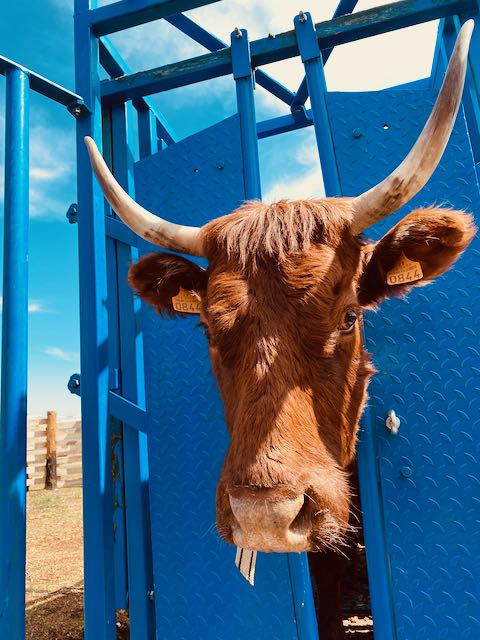muzzles: (201, 478, 342, 557)
